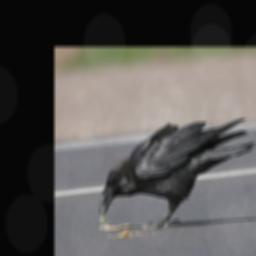Crow: (99, 118, 256, 228)
